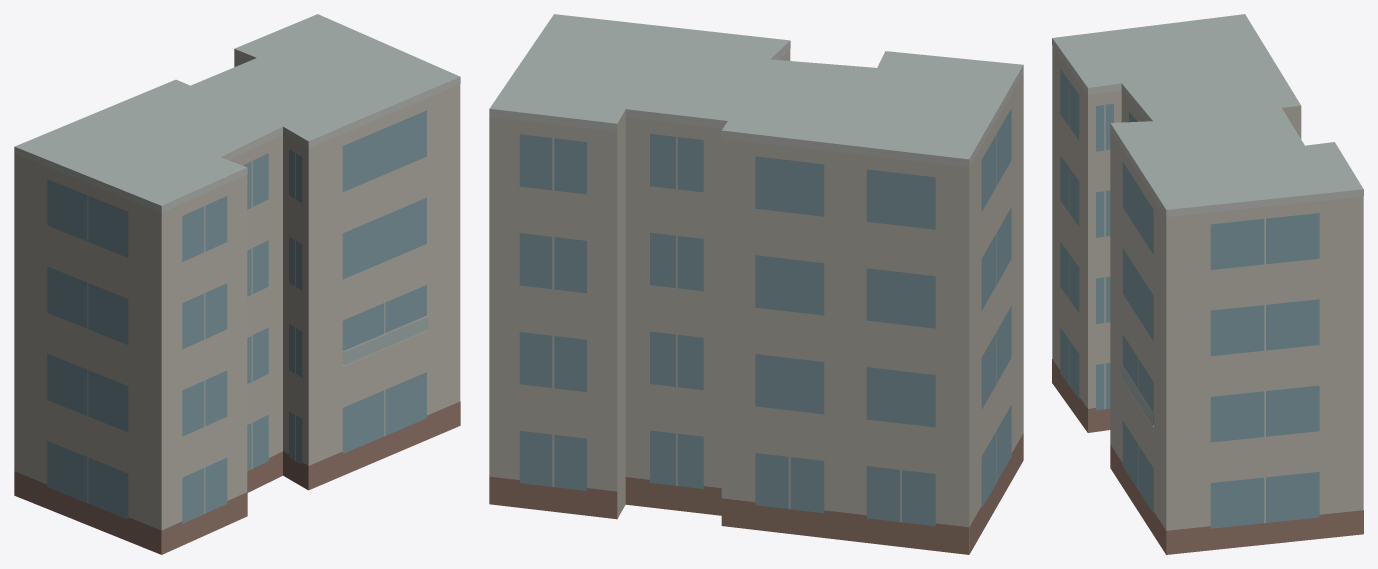
The model's file is survey-upis-32645949.glb.
3 renders of one model, left to right at view 1: azimuth 30°, elevation 25°; view 2: azimuth 150°, elevation 25°; view 3: azimuth 270°, elevation 25°, orthographic. The views are drawn at different scales.
Visible parts, largest first — view 1: survey-upis-32645949.tmp; view 2: survey-upis-32645949.tmp; view 3: survey-upis-32645949.tmp.
Part boxes in pixels (x1=…): survey-upis-32645949.tmp: x1=14, y1=14, x2=460, y2=554; survey-upis-32645949.tmp: x1=489, y1=14, x2=1023, y2=554; survey-upis-32645949.tmp: x1=1052, y1=14, x2=1363, y2=554.
Bounding box in the file's own units: 14.44 × 11.85 × 9.71.
